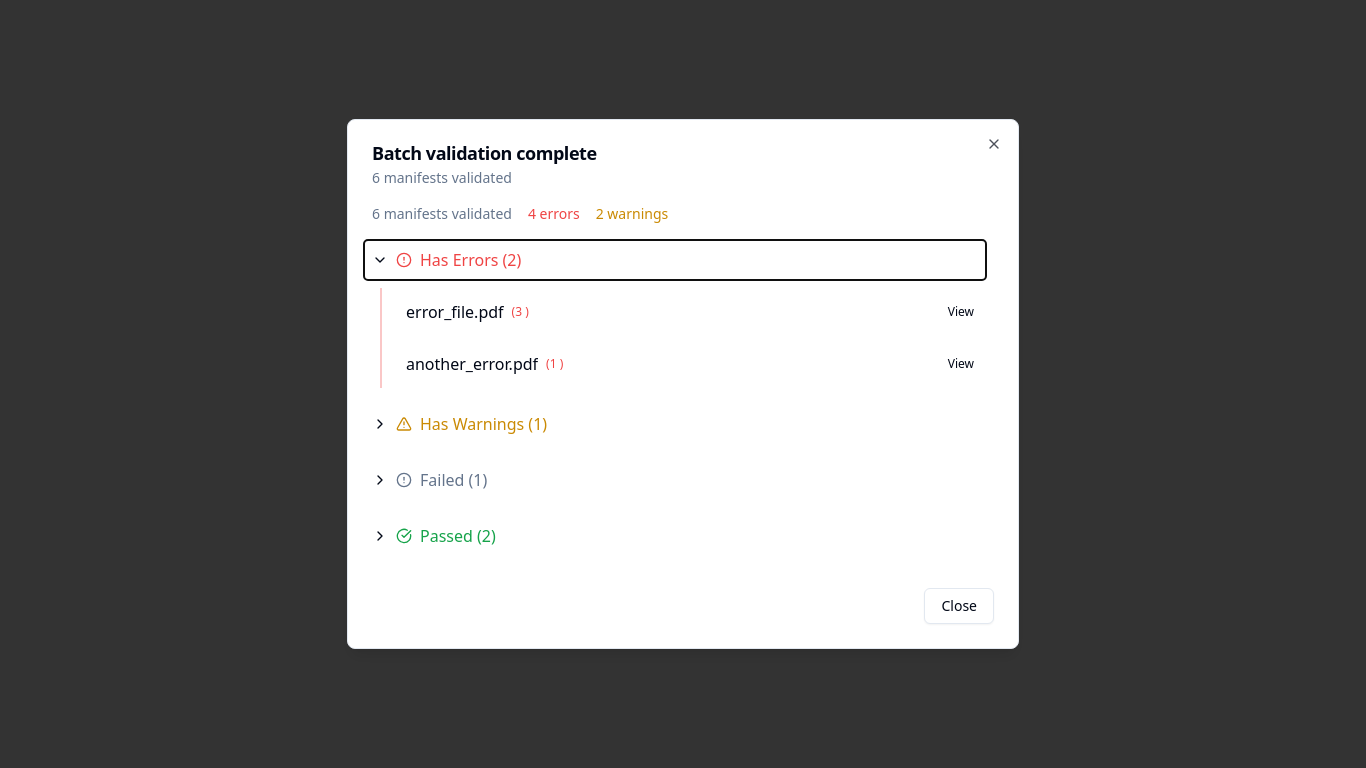
Scenario: BatchValidationResultsModal › shows failed validation error message
# Failed section is collapsed by default
Click the button "Failed (1)": click(454, 480) [364,460,986,500]
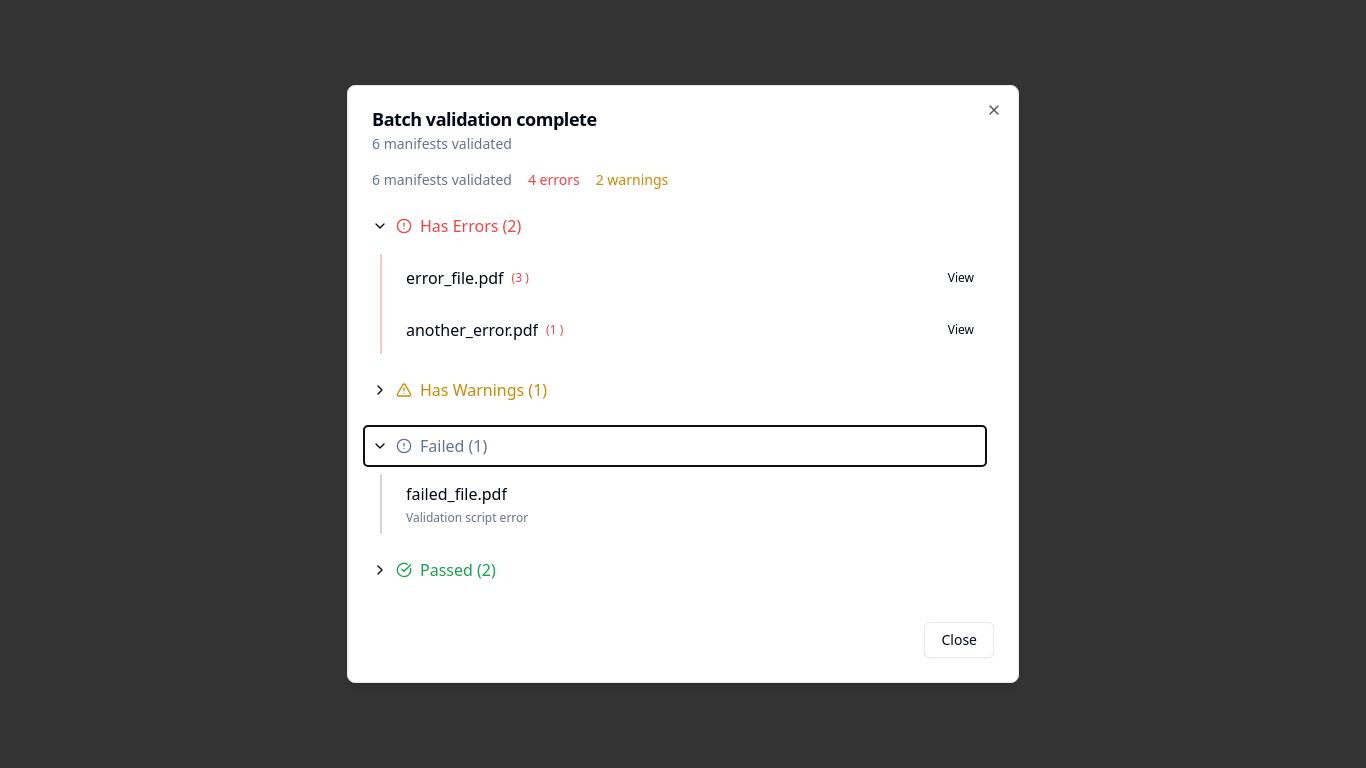
Expected: the text "failed_file.pdf" is shown, [406,482,507,506]
Expected: the text "Validation script error" is shown, [406,509,528,526]
